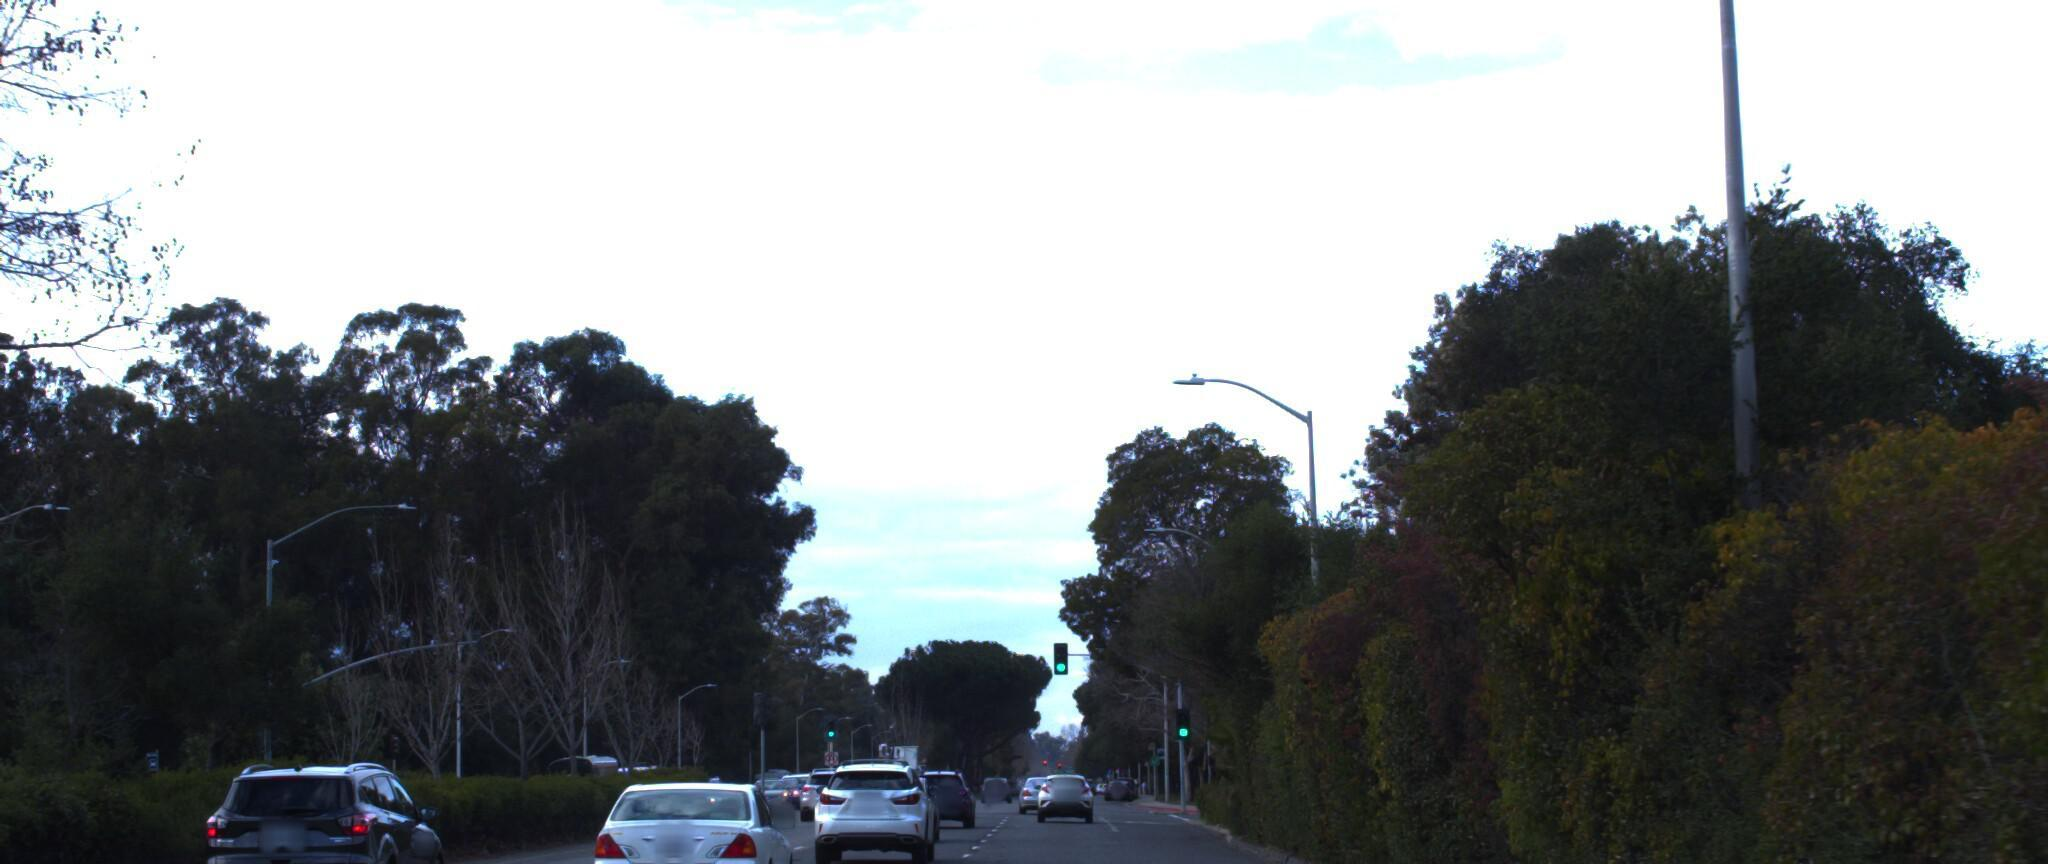car: (195, 743, 461, 864), (585, 739, 799, 864), (802, 753, 927, 860)
